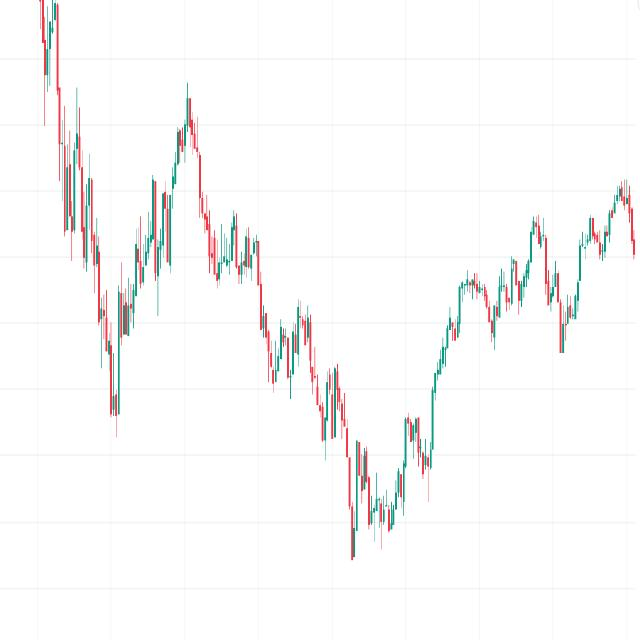Channel-down: (139, 58, 429, 635)
Channel-up: (84, 48, 218, 462)
